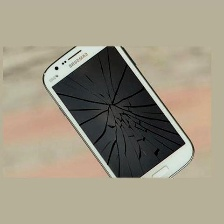phone: (37, 25, 198, 200)
